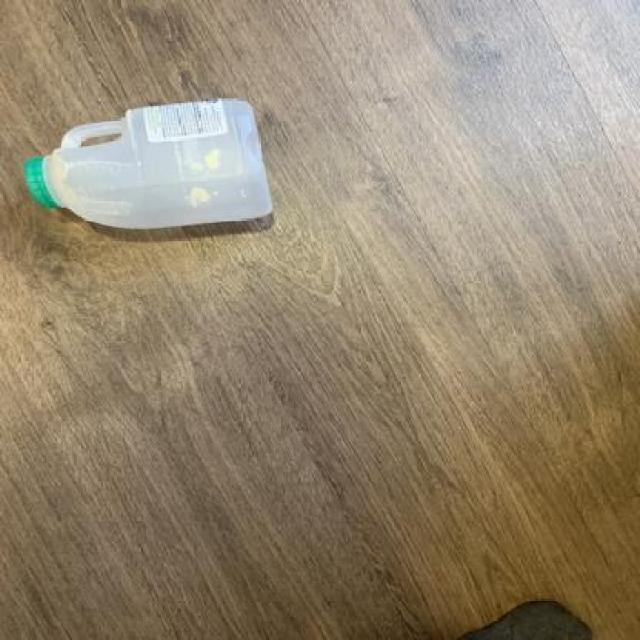trash: (20, 96, 278, 233)
